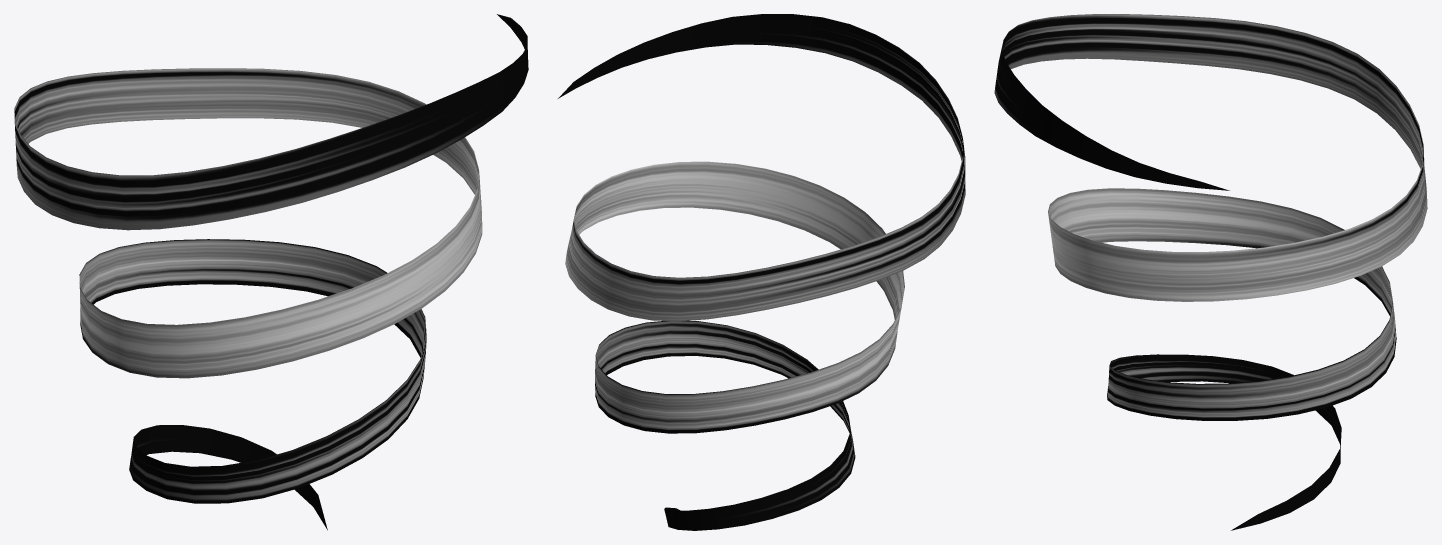
File: TwistWindL.fbx
The picture shows the model from 3 angles, left to right: view 1: azimuth 30°, elevation 25°; view 2: azimuth 150°, elevation 25°; view 3: azimuth 270°, elevation 25°; orthographic projection. The views are drawn at different scales.
Visible parts, largest first — view 1: SM_e_Skl_Wa_6Nej_TwistWind001L.001; view 2: SM_e_Skl_Wa_6Nej_TwistWind001L.001; view 3: SM_e_Skl_Wa_6Nej_TwistWind001L.001.
Boxes of the visible parts, <box> form: SM_e_Skl_Wa_6Nej_TwistWind001L.001: <box>14,14,528,530</box>; SM_e_Skl_Wa_6Nej_TwistWind001L.001: <box>558,14,965,530</box>; SM_e_Skl_Wa_6Nej_TwistWind001L.001: <box>994,14,1427,530</box>.
Bounding box in the file's own units: 95.06 × 105 × 89.67.
